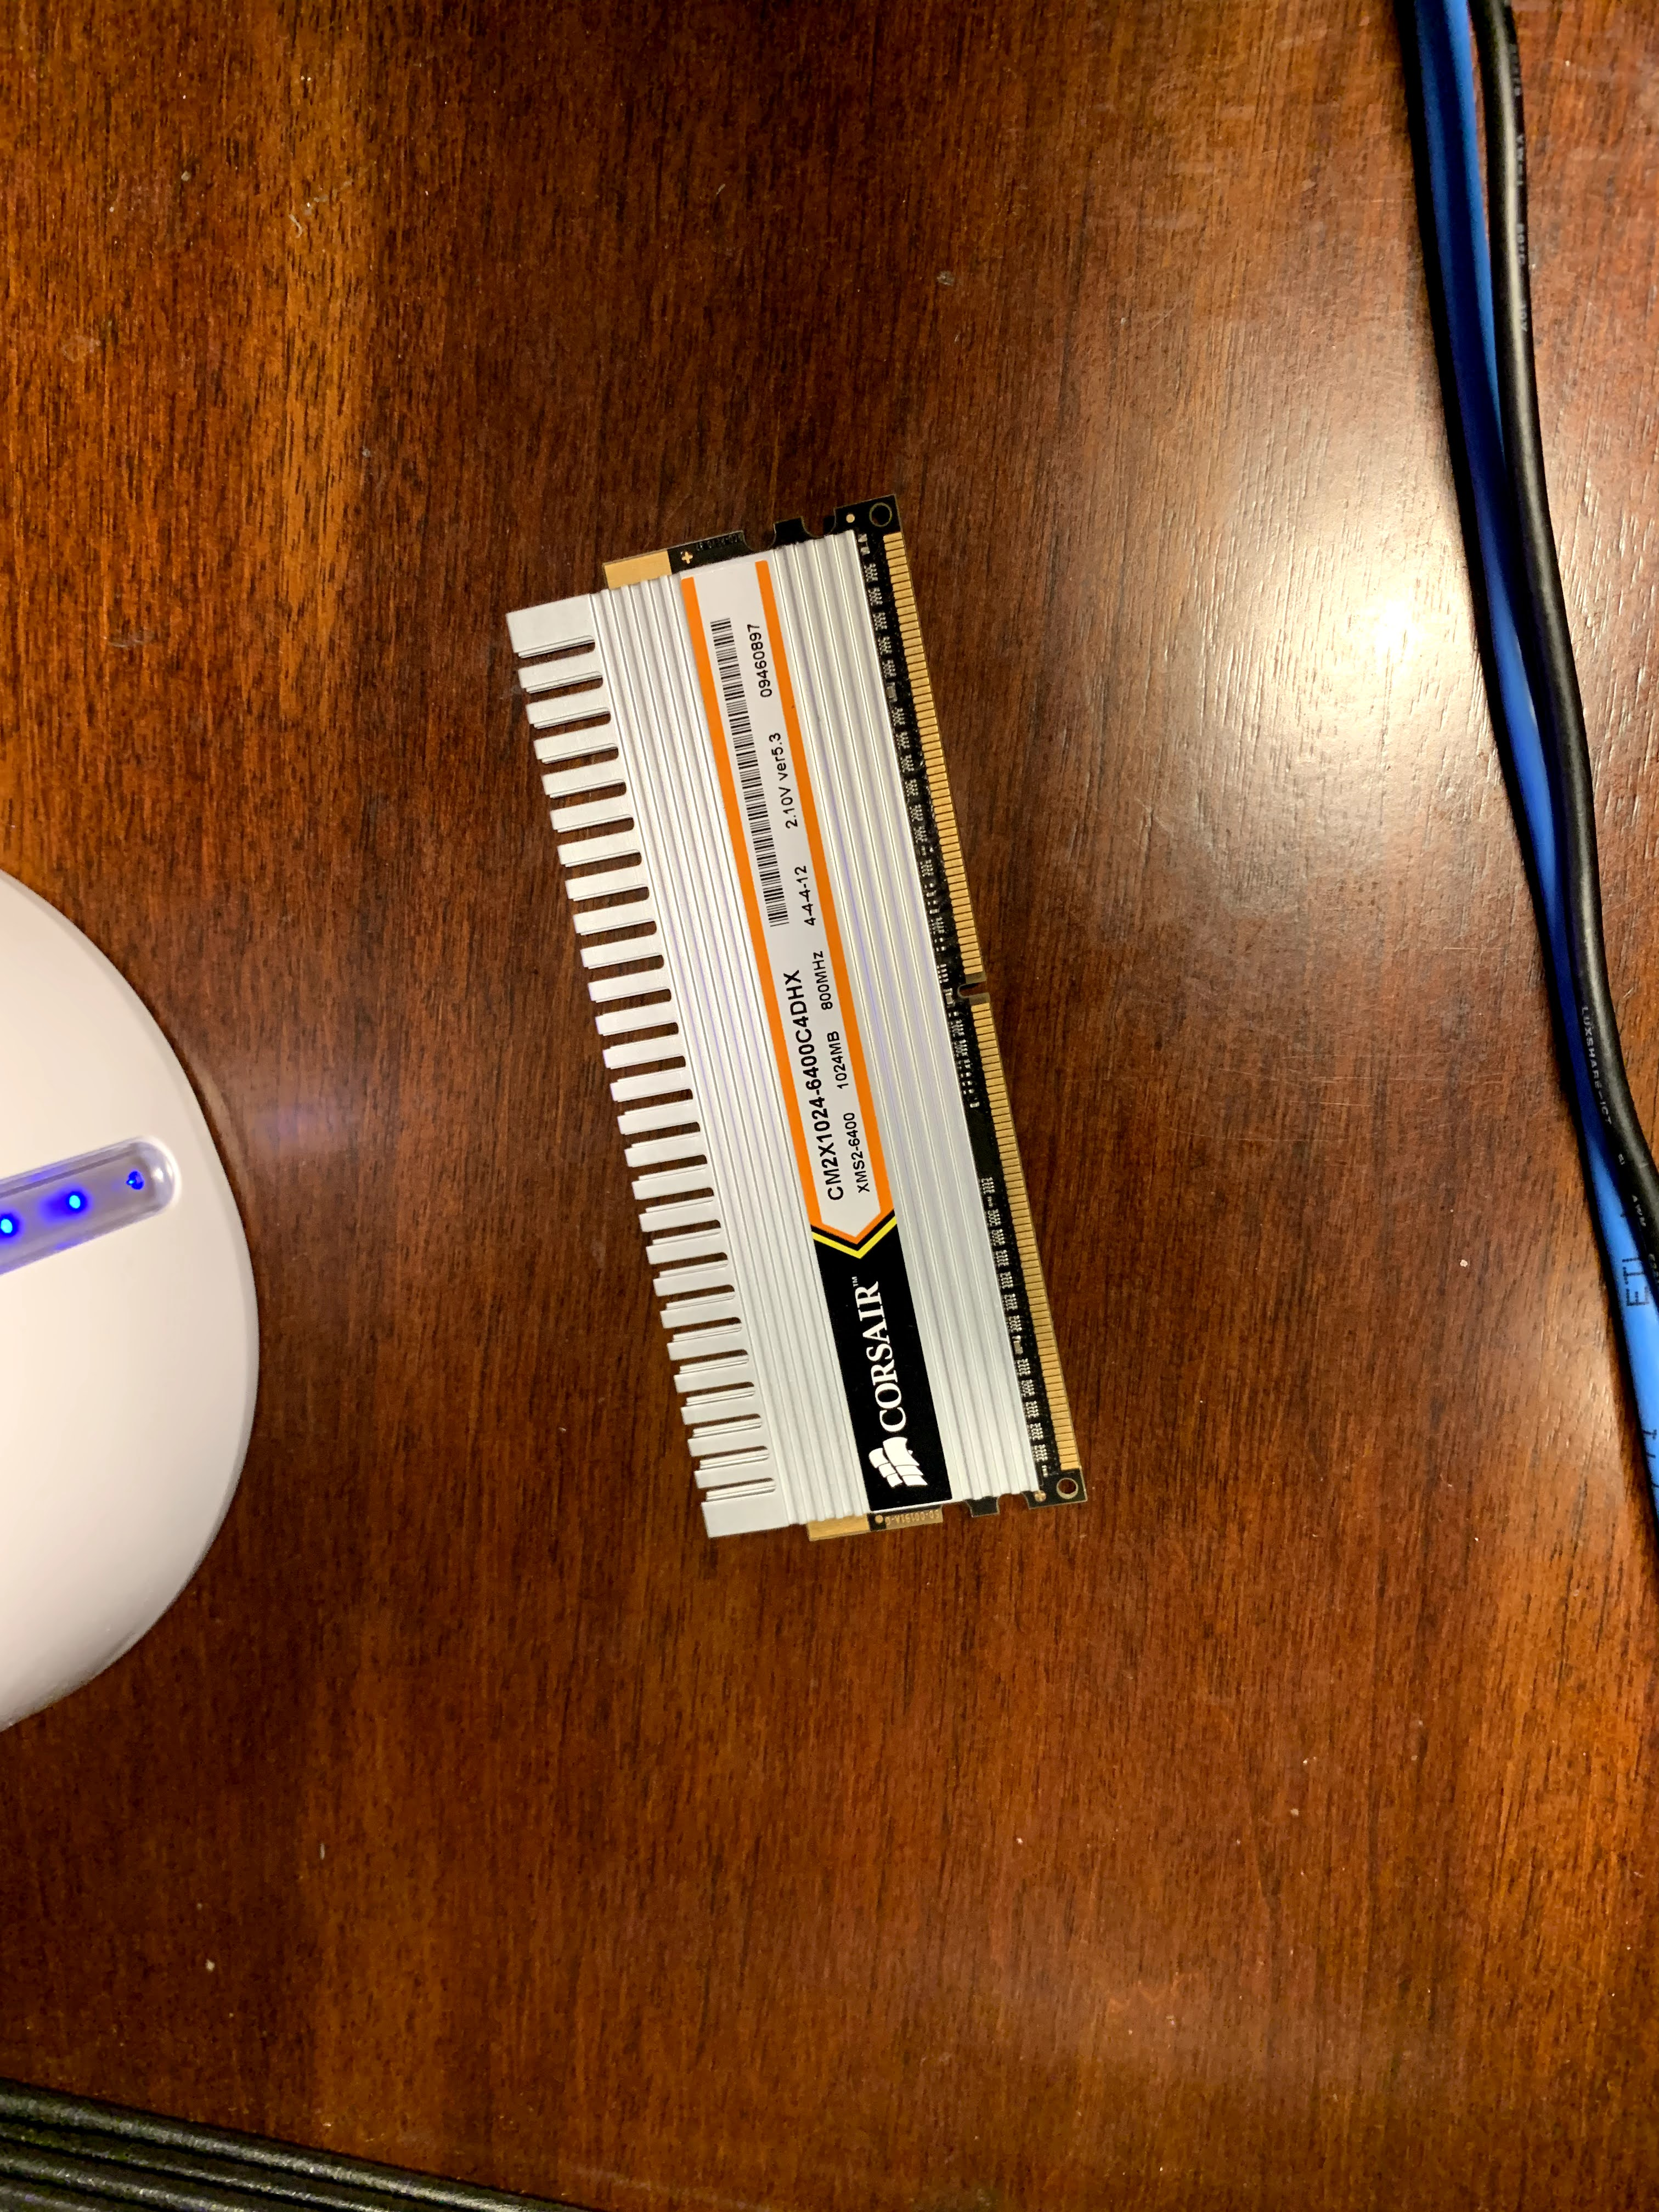Space-debris-medium: (444, 474, 1157, 1569)
